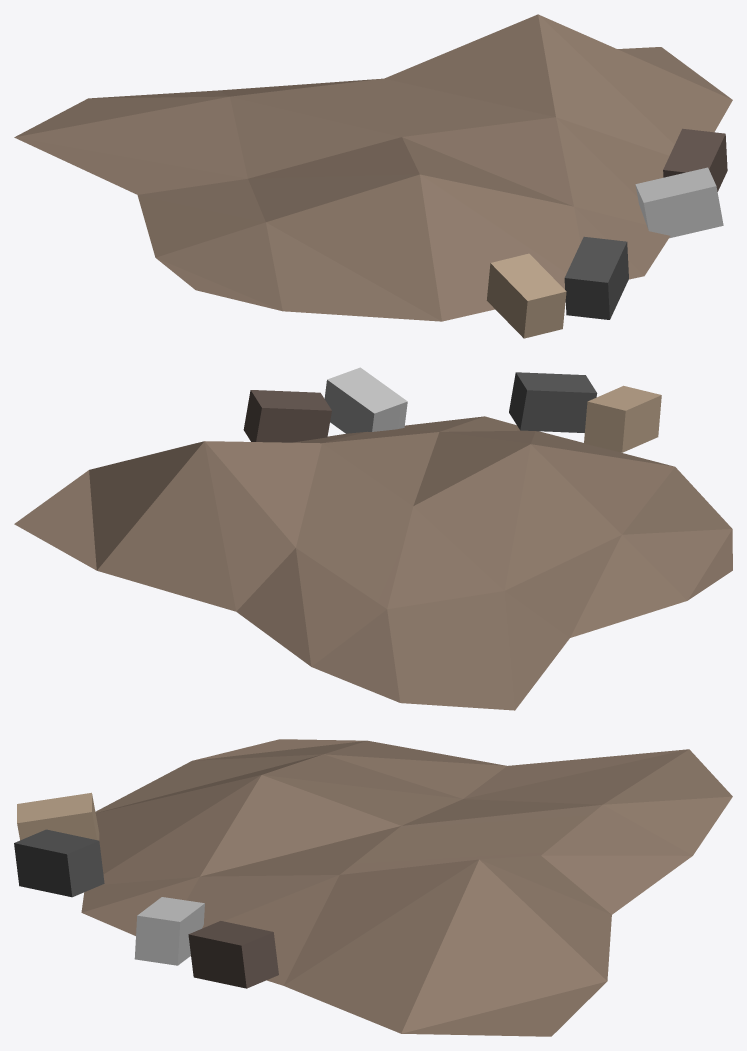
The model's file is rubbish_2.fbx.
3 renders of one model, top to bottom at view 1: azimuth 30°, elevation 25°; view 2: azimuth 150°, elevation 25°; view 3: azimuth 270°, elevation 25°, orthographic. The views are drawn at different scales.
Visible parts, largest first — view 1: Object.034; view 2: Object.034; view 3: Object.034.
Part boxes in pixels (left/top/right/bottom): Object.034: left=14, top=14, right=732, bottom=338; Object.034: left=14, top=367, right=732, bottom=710; Object.034: left=14, top=739, right=732, bottom=1036.
Bounding box in the file's own units: 923 × 151 × 945.
